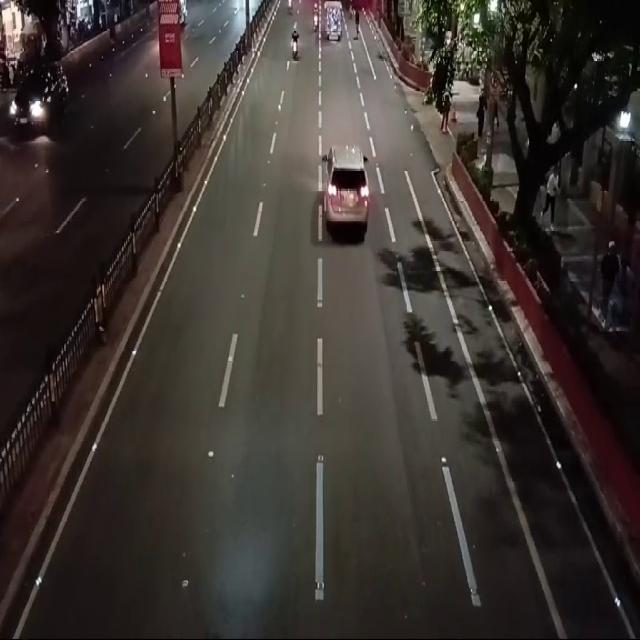car: (316, 138, 376, 244), (10, 61, 78, 140)
jeepney: (325, 0, 344, 46)
motorcycle: (290, 23, 303, 66)
